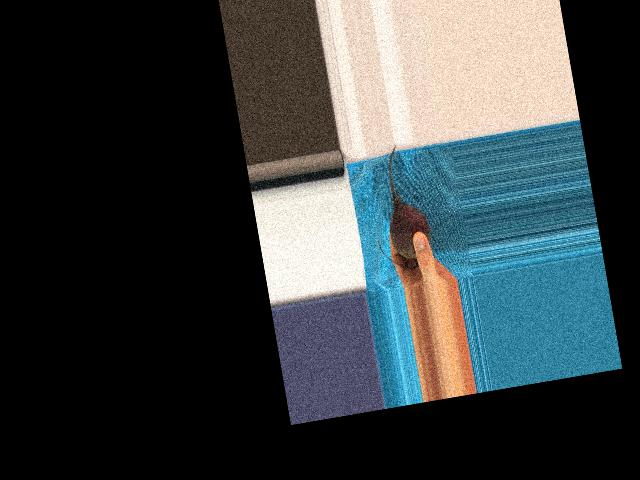beet: (363, 141, 436, 273)
